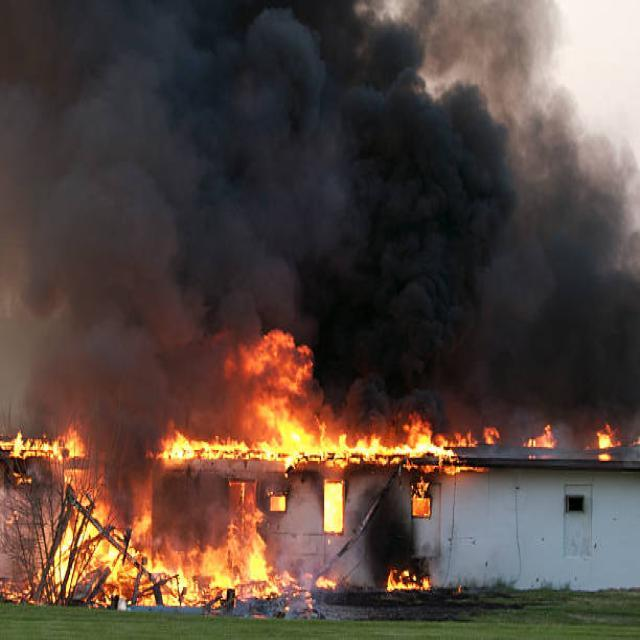Fire: (184, 345, 630, 470), (30, 434, 282, 604), (379, 564, 427, 600), (323, 467, 346, 541)
Smoke: (181, 0, 640, 415), (2, 1, 186, 456)
